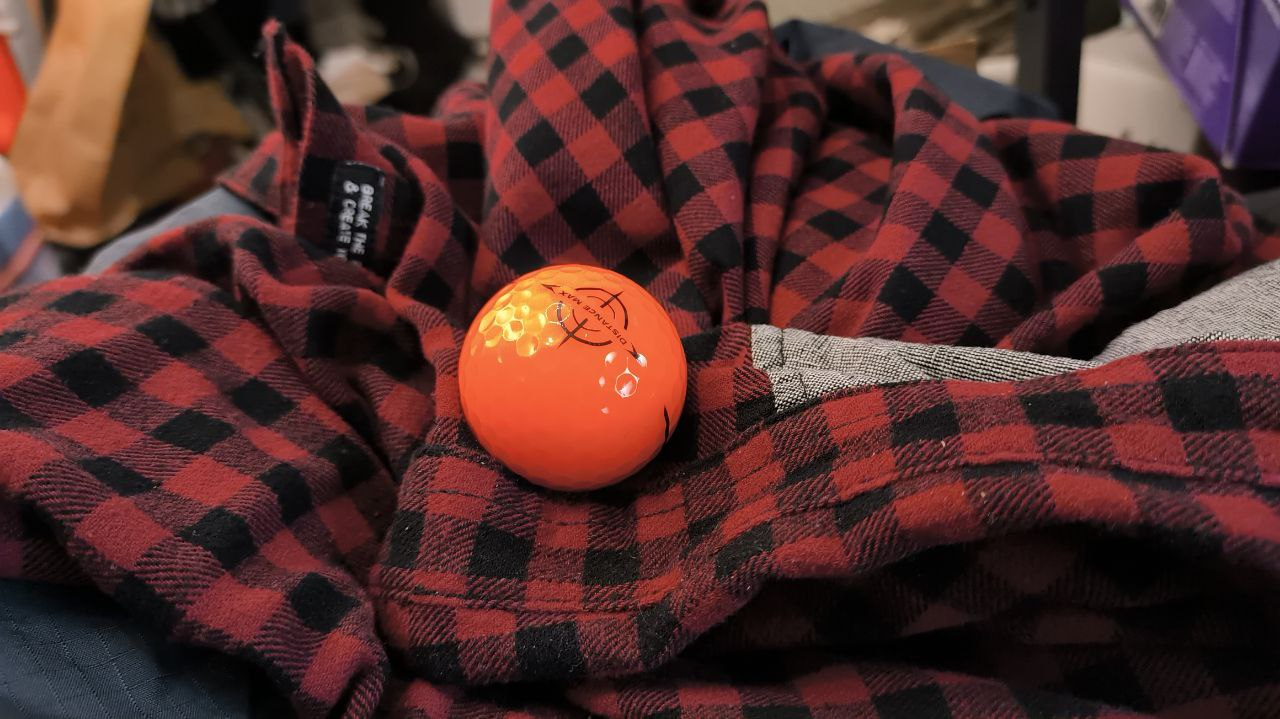orange_ball: (459, 264, 688, 493)
